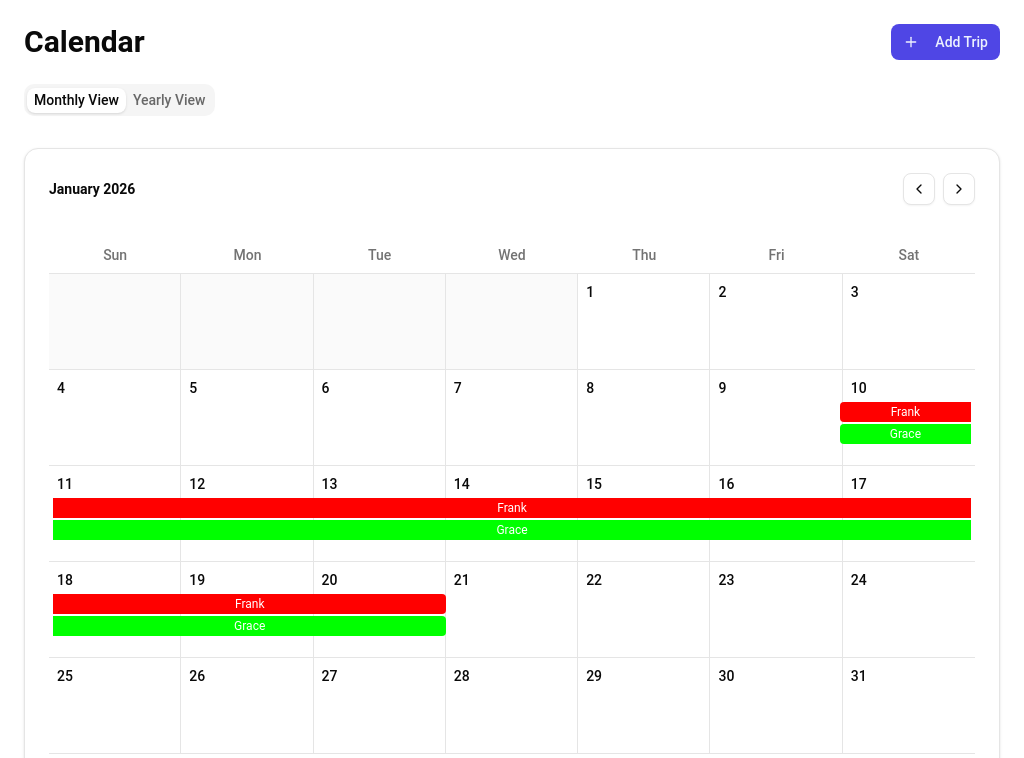
Test: CalendarView › Yearly View › displays tooltip with trip details when hovering over a day with trips
Note: Switch to yearly view
Click the tab "Yearly View". click: (169, 100)
box: 126,88 -> 212,112
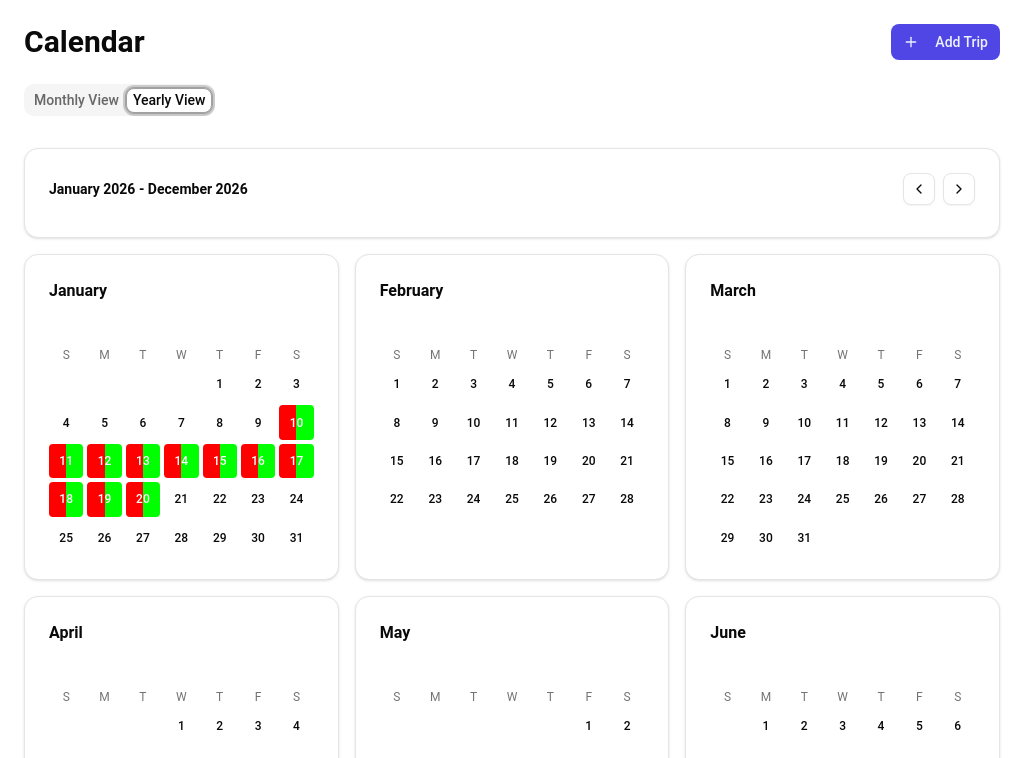
Check: the button named "January 15, 2026: Frank, Grace" is shown
Note: Hover over the day to show tooltip
Hover over the button named "January 15, 2026: Frank, Grace" at (220, 461), box 202,444 -> 237,478
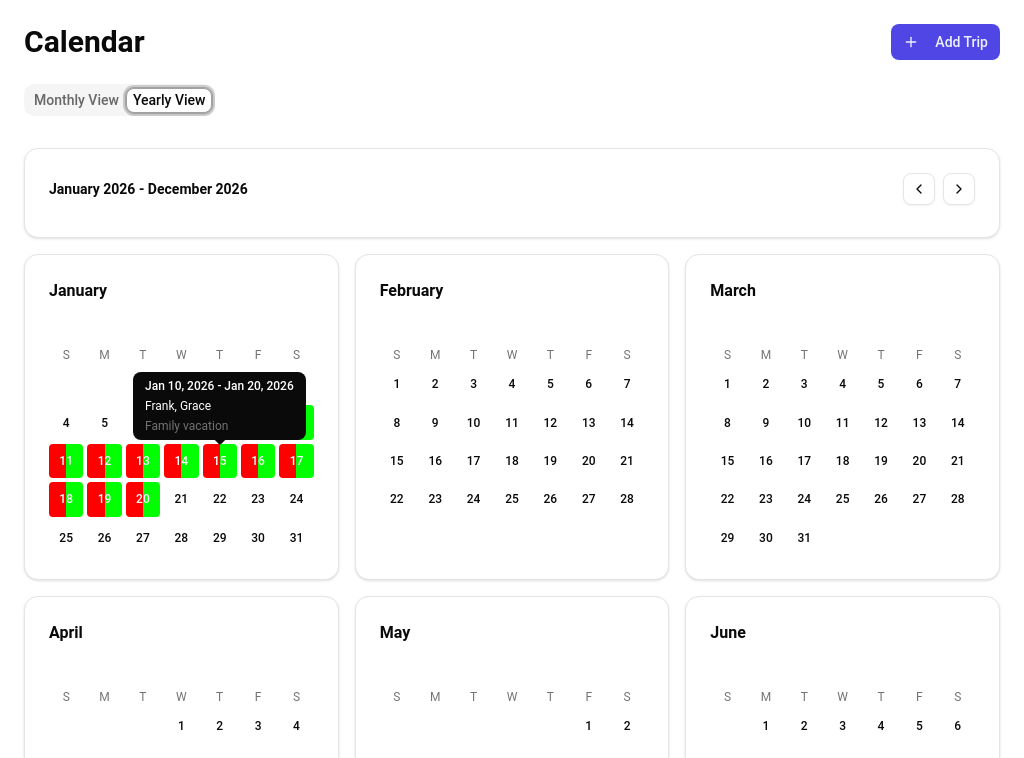
Check: the text "Jan 10, 2026 - Jan 20, 2026" is shown, box 145,378 -> 294,394
Check: the text "Frank, Grace" is shown, box 145,399 -> 211,413
Check: the text "Family vacation" is shown, box 145,419 -> 228,433
